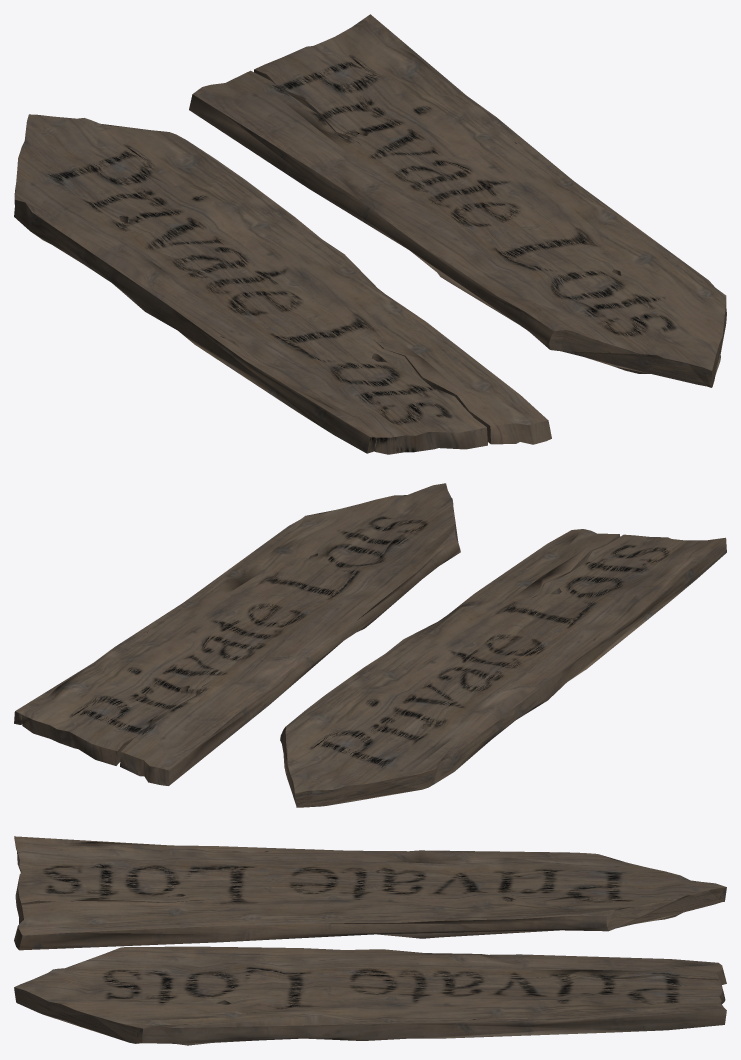
File: Wooden Sign G made.FBX
The picture shows the model from 3 angles, top to bottom: view 1: azimuth 30°, elevation 25°; view 2: azimuth 150°, elevation 25°; view 3: azimuth 270°, elevation 25°; orthographic projection. The views are drawn at different scales.
Visible parts, largest first — view 1: Object003, Object002; view 2: Object003, Object002; view 3: Object002, Object003.
Boxes of the visible parts, x1,y1,x2,y2 form: Object003: [189, 14, 726, 387]; Object002: [14, 114, 551, 454]; Object003: [14, 483, 460, 785]; Object002: [280, 529, 726, 807]; Object002: [14, 836, 726, 950]; Object003: [14, 946, 726, 1045].
Bounding box in the file's own units: 2.38 × 0.2478 × 4.01.
